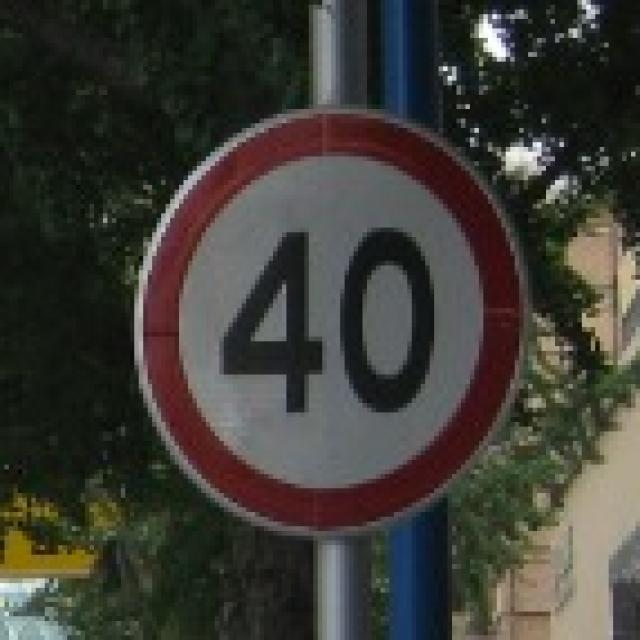Speed Limit -40-: (216, 222, 444, 419)
